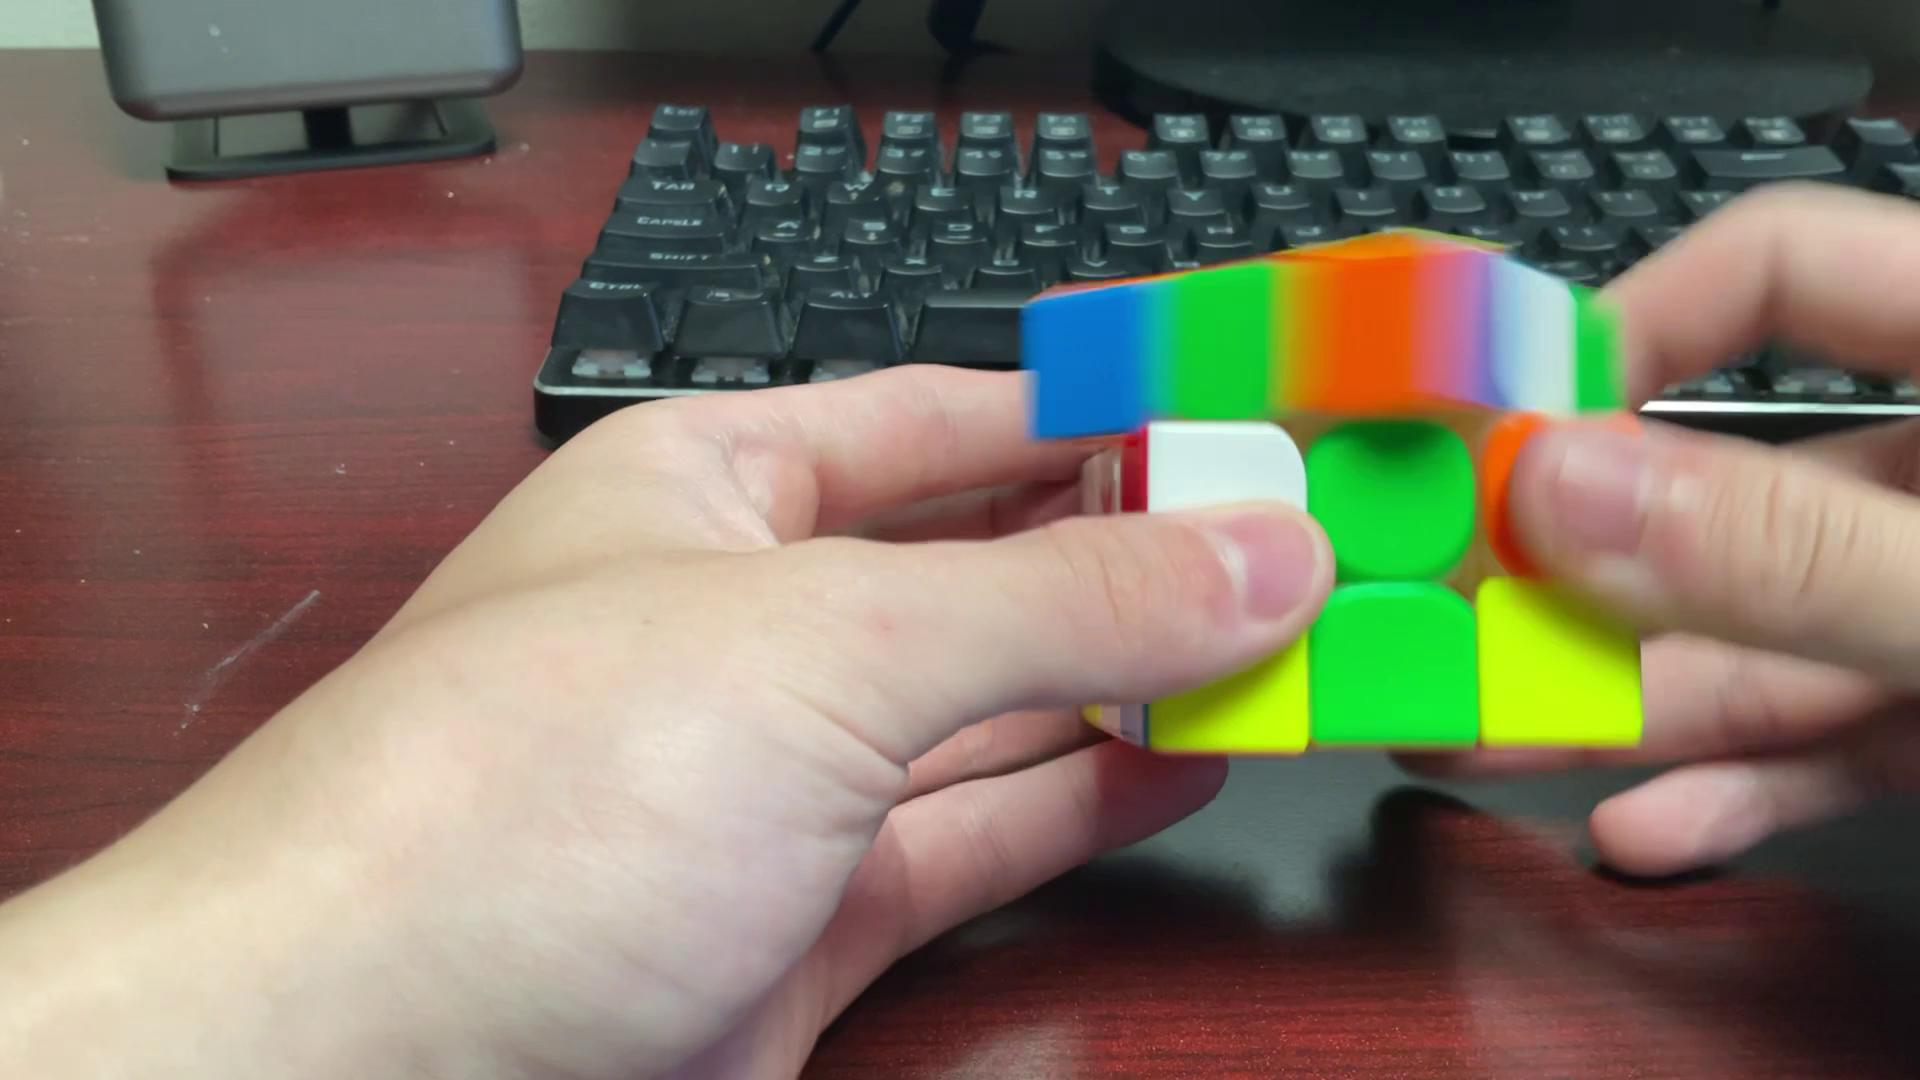Rubiks-Cube: (1014, 208, 1660, 761)
